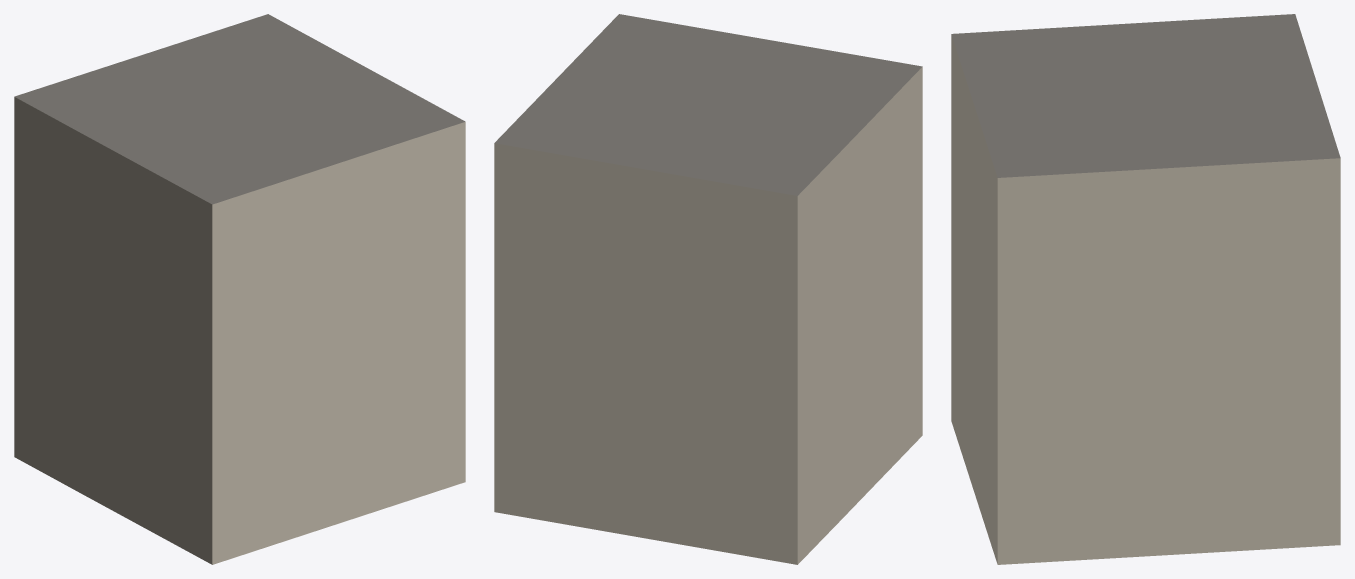
3 renders of one model, left to right at view 1: azimuth 30°, elevation 25°; view 2: azimuth 150°, elevation 25°; view 3: azimuth 270°, elevation 25°, orthographic. The views are drawn at different scales.
Visible parts, largest first — view 1: HP-w1197839028; view 2: HP-w1197839028; view 3: HP-w1197839028.
Boxes of the visible parts, x1,y1,x2,y2 form: HP-w1197839028: (14, 14, 465, 564); HP-w1197839028: (494, 14, 922, 564); HP-w1197839028: (951, 14, 1340, 564).
Size of the model in its own units: 13.64 by 15 by 13.68.
